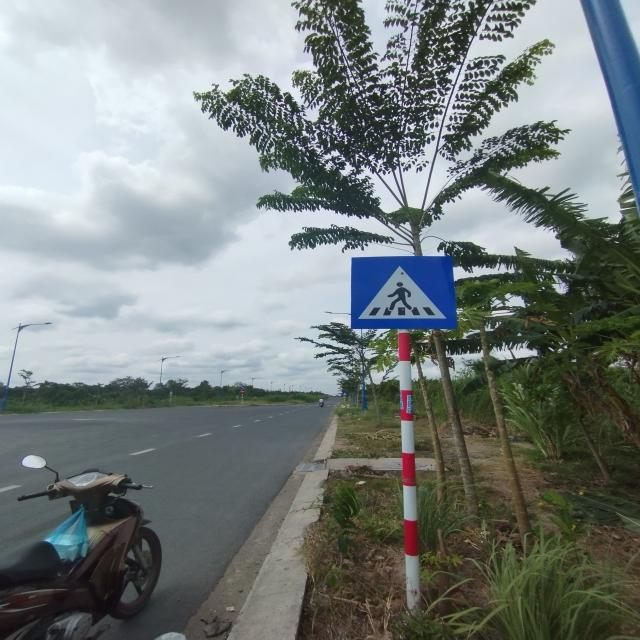Giao_Nhau_Duong_Uu_Tien: (351, 256, 457, 329)
